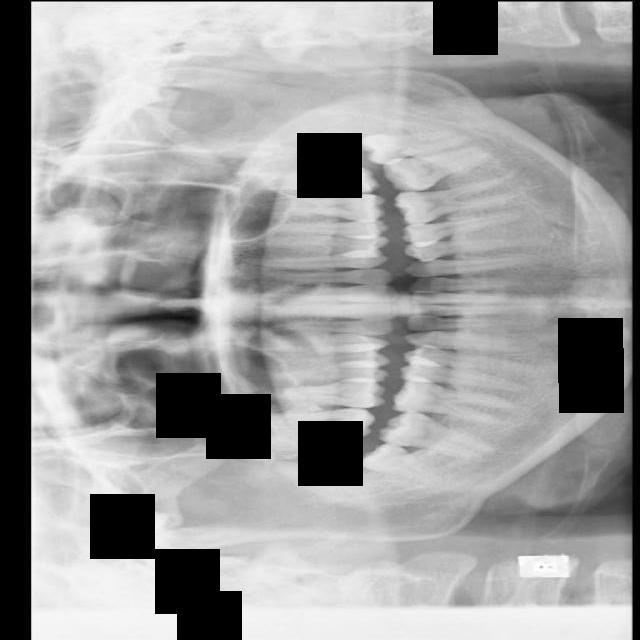3M ESPE Implant: (234, 415, 362, 469)
73: (612, 7, 620, 15)
BioHorizons Implant: (245, 162, 381, 194)
Biomet 3i Implant: (359, 128, 471, 166)
Blue Sky Bio Implant: (382, 142, 498, 196)
Caries: (239, 406, 375, 438)
Implant: (376, 404, 501, 464)
Keystone Dental Implant: (356, 434, 453, 489)
